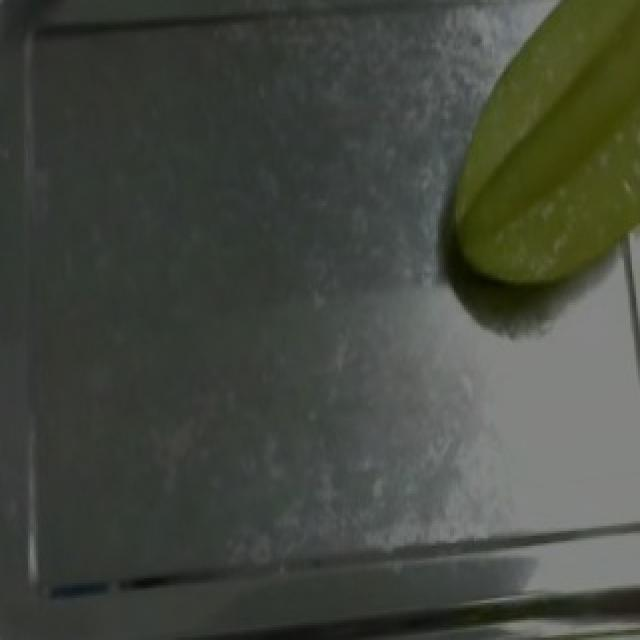fruit: (436, 0, 640, 315)
